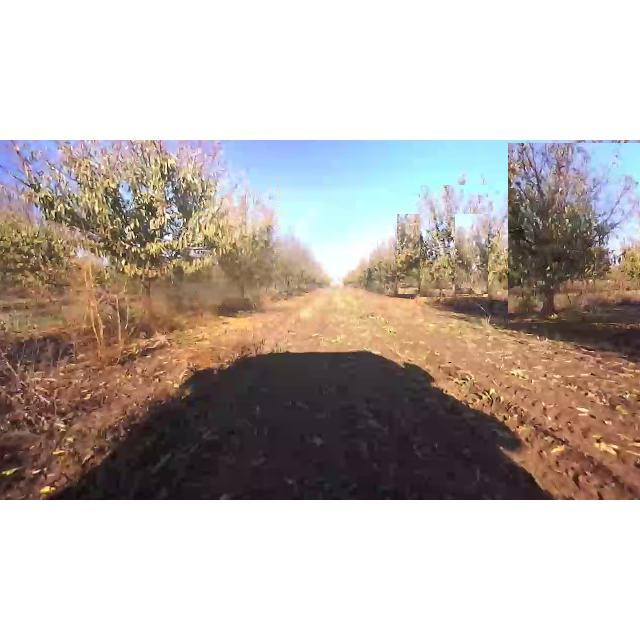direk: (18, 142, 218, 338), (508, 143, 640, 323), (196, 176, 280, 308), (420, 185, 488, 297), (397, 213, 453, 294)
